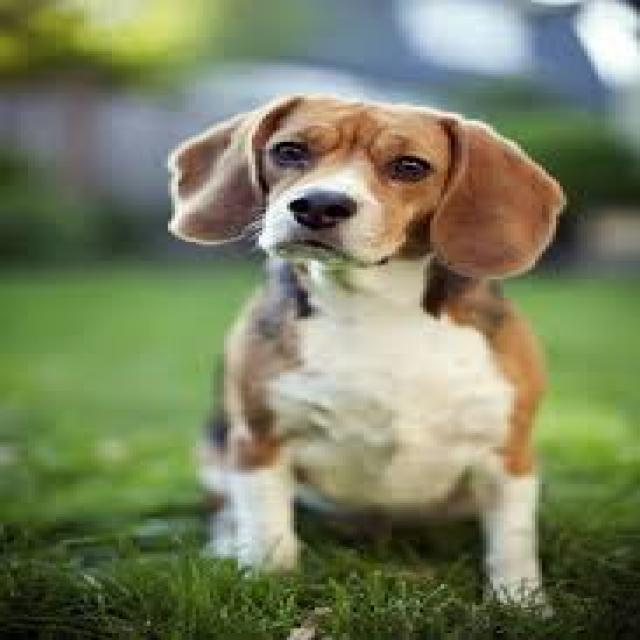Dog: (152, 88, 576, 624)
